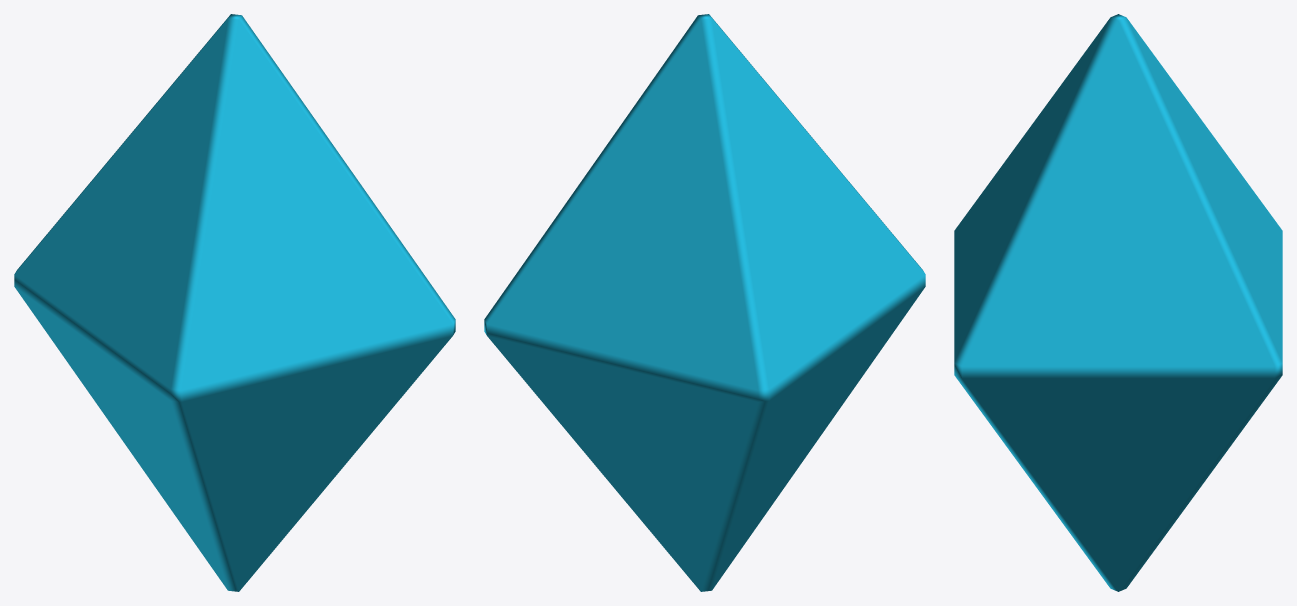
File: crystal2-1notex.fbx
3 views of the same model, side by side, from view 1: azimuth 30°, elevation 25°; view 2: azimuth 150°, elevation 25°; view 3: azimuth 270°, elevation 25° (orthographic).
Parts seen in each view (by area): view 1: crystal2-1notex; view 2: crystal2-1notex; view 3: crystal2-1notex.
Part boxes in pixels (x1,y1,x2,y2): crystal2-1notex: (14,14,455,591); crystal2-1notex: (484,14,925,591); crystal2-1notex: (954,14,1282,591).
Bounding box in the file's own units: 0.2223 × 0.4262 × 0.2223.
